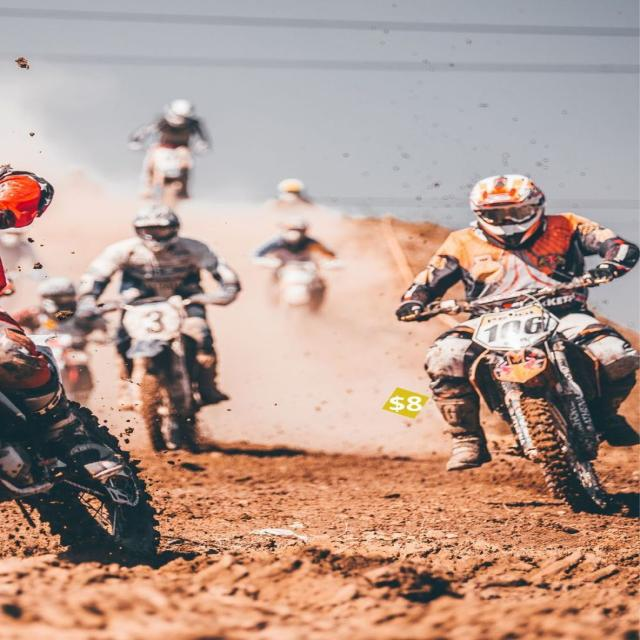illegal_helmet: (461, 168, 558, 250)
